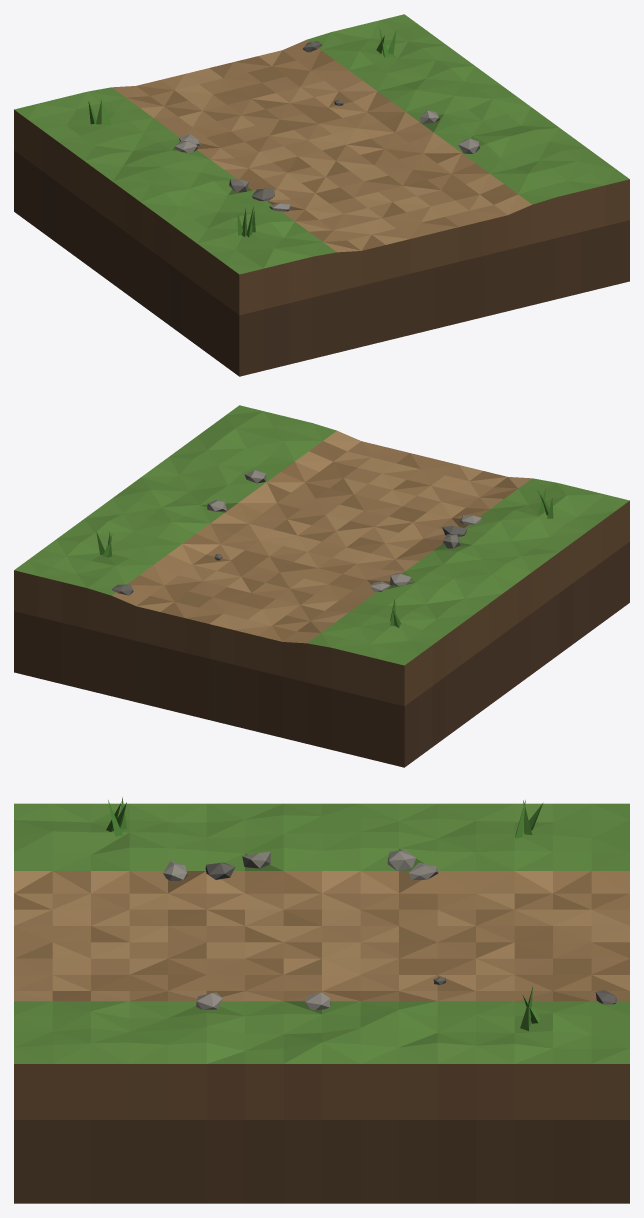
File: road_straight.glb
The picture shows the model from 3 angles, top to bottom: view 1: azimuth 30°, elevation 25°; view 2: azimuth 150°, elevation 25°; view 3: azimuth 270°, elevation 25°; orthographic projection. The views are drawn at different scales.
Visible parts, largest first — view 1: RoadStraight; view 2: RoadStraight; view 3: RoadStraight.
Part boxes in pixels (x1,y1,x2,y2): RoadStraight: (14, 14, 629, 376); RoadStraight: (14, 405, 629, 767); RoadStraight: (14, 797, 629, 1203).
Size of the model in its own units: 2 by 0.6389 by 2.
